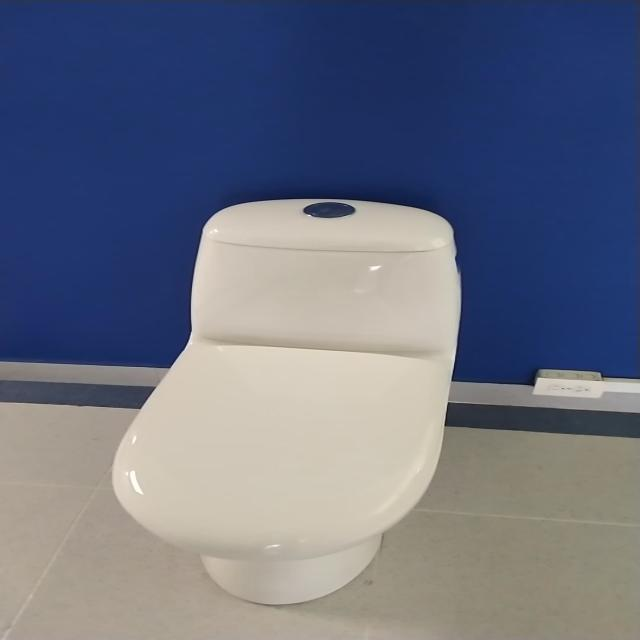toilet: (110, 197, 462, 605)
